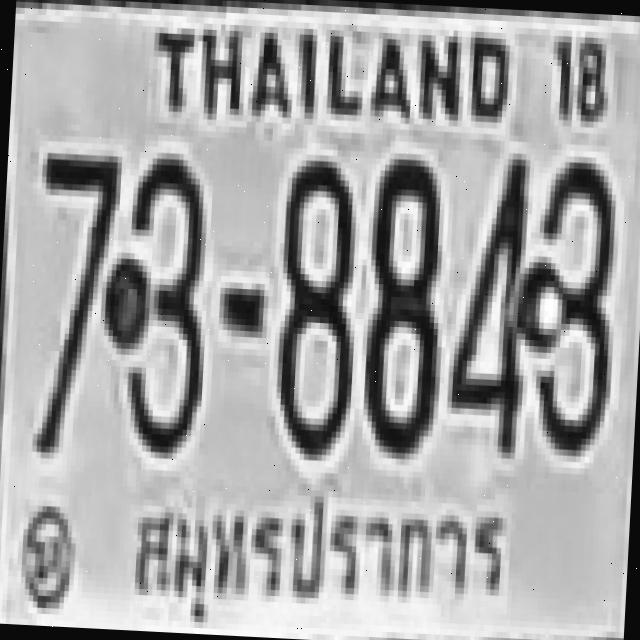3: (98, 150, 210, 454)
4: (444, 151, 530, 453)
7: (26, 150, 120, 434), (29, 146, 120, 402), (32, 146, 118, 372), (34, 146, 118, 348)
8: (519, 154, 618, 452), (270, 154, 360, 456), (357, 152, 443, 454)
SamutPrakan: (120, 482, 517, 624)
